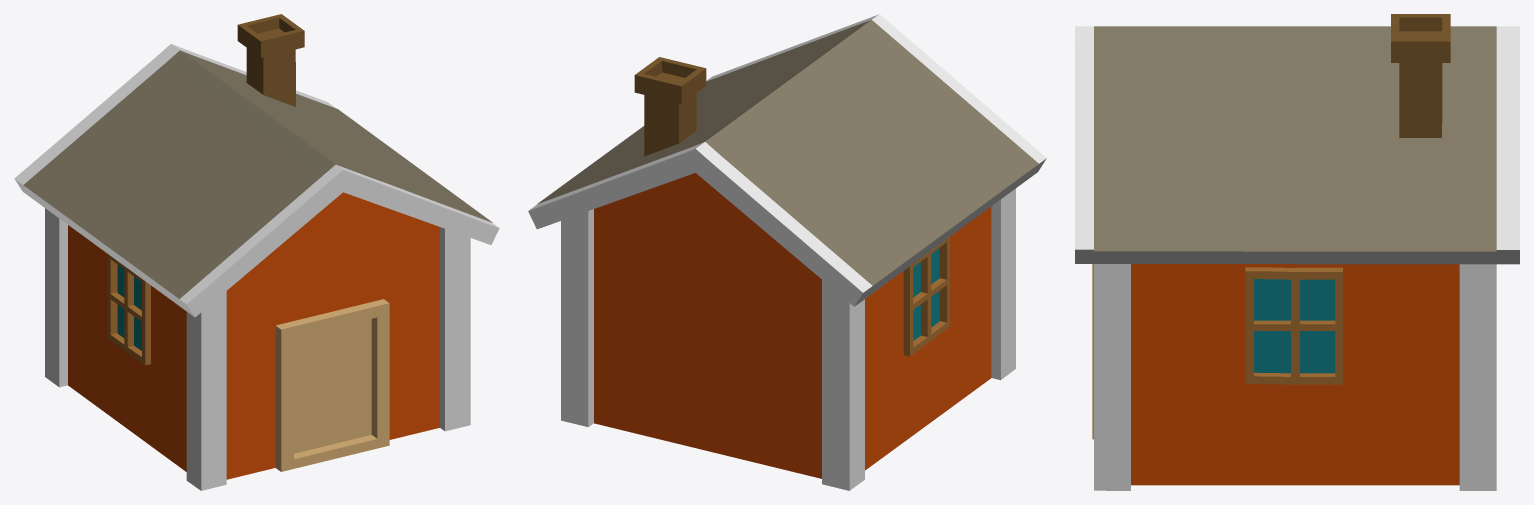
Rendered from FarmHouse.fbx.
3 views of the same model, side by side, from view 1: azimuth 30°, elevation 25°; view 2: azimuth 150°, elevation 25°; view 3: azimuth 270°, elevation 25° (orthographic). The views are drawn at different scales.
Parts seen in each view (by area): view 1: Plane.009, Plane.010, Plane, Plane.012, Plane.011, Plane.014, Plane.013; view 2: Plane.009, Plane.010, Plane, Plane.011, Plane.014, Plane.013; view 3: Plane.010, Plane.009, Plane, Plane.011, Plane.013, Plane.014.
Boxes of the visible parts, x1=… form: Plane.009: x1=68, y1=165, x2=439, y2=479; Plane.010: x1=23, y1=50, x2=492, y2=298; Plane: x1=14, y1=44, x2=499, y2=490; Plane.012: x1=275, y1=299, x2=389, y2=471; Plane.011: x1=237, y1=14, x2=304, y2=106; Plane.014: x1=107, y1=254, x2=150, y2=365; Plane.013: x1=117, y1=265, x2=141, y2=350; Plane.009: x1=594, y1=173, x2=991, y2=478; Plane.010: x1=537, y1=19, x2=1038, y2=285; Plane: x1=528, y1=14, x2=1046, y2=490; Plane.011: x1=634, y1=57, x2=706, y2=156; Plane.014: x1=903, y1=237, x2=950, y2=356; Plane.013: x1=913, y1=248, x2=939, y2=340; Plane.010: x1=1094, y1=26, x2=1496, y2=251; Plane.009: x1=1131, y1=264, x2=1459, y2=485; Plane: x1=1075, y1=26, x2=1519, y2=490; Plane.011: x1=1391, y1=14, x2=1450, y2=137; Plane.013: x1=1254, y1=279, x2=1335, y2=373; Plane.014: x1=1245, y1=267, x2=1342, y2=384.
Size of the model in its own units: 2492 by 2444 by 2362.
